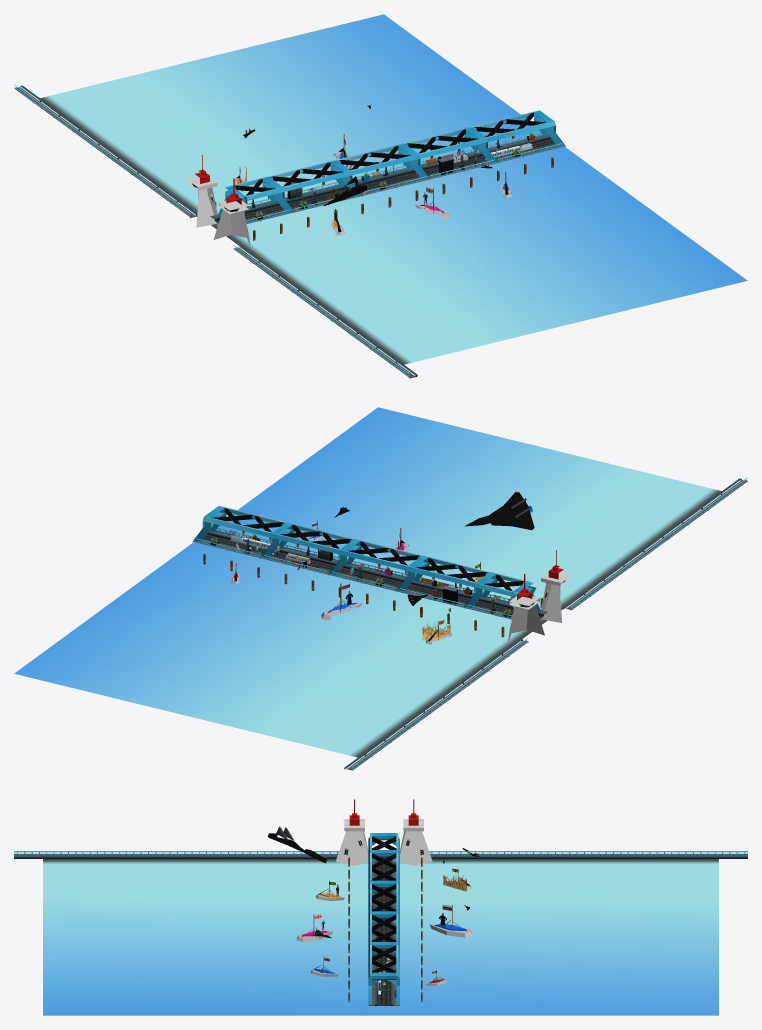
Rendered from subwaysurferstest42.glb.
3 renders of one model, top to bottom at view 1: azimuth 30°, elevation 25°; view 2: azimuth 150°, elevation 25°; view 3: azimuth 270°, elevation 25°, orthographic. The views are drawn at different scales.
Parts seen in each view (by area): view 1: Water, Overpass.002, Overpass, Overpass.001, Overpass.003, lighttower, Overpass.004, lighttower.001; view 2: Water, Overpass.003, Overpass.002, Overpass, Overpass.001, Plane1.001, lighttower.001, Overpass.004, lighttower; view 3: Water, lighttower.001, lighttower, Overpass, Overpass.002, Overpass.001, Overpass.003, Overpass.004, Plane1.001, boat1.006.
Part boxes in pixels (x1,y1,x2,y2): Water: (40, 14, 747, 364); Overpass.002: (337, 143, 429, 179); Overpass: (472, 110, 565, 146); Overpass.001: (404, 127, 497, 162); Overpass.003: (269, 160, 361, 195); lighttower: (213, 178, 250, 247); Overpass.004: (217, 176, 293, 216); lighttower.001: (187, 155, 217, 227); Water: (14, 407, 721, 757); Overpass.003: (396, 555, 489, 591); Overpass.002: (328, 539, 421, 574); Overpass: (193, 506, 286, 541); Overpass.001: (261, 522, 353, 558); Plane1.001: (464, 492, 534, 530); lighttower.001: (508, 574, 544, 642); Overpass.004: (464, 572, 541, 611); lighttower: (541, 550, 571, 622); Water: (43, 859, 718, 1015); lighttower.001: (400, 799, 432, 865); lighttower: (335, 799, 368, 865); Overpass: (368, 945, 399, 1004); Overpass.002: (368, 883, 399, 923); Overpass.001: (368, 914, 399, 954); Overpass.003: (368, 853, 399, 893); Overpass.004: (368, 833, 399, 862); Plane1.001: (267, 826, 326, 863); boat1.006: (429, 904, 472, 937).
Bounding box in the file's own units: 424 × 87.32 × 808.
Materials: 5 (5 with a texture image).
